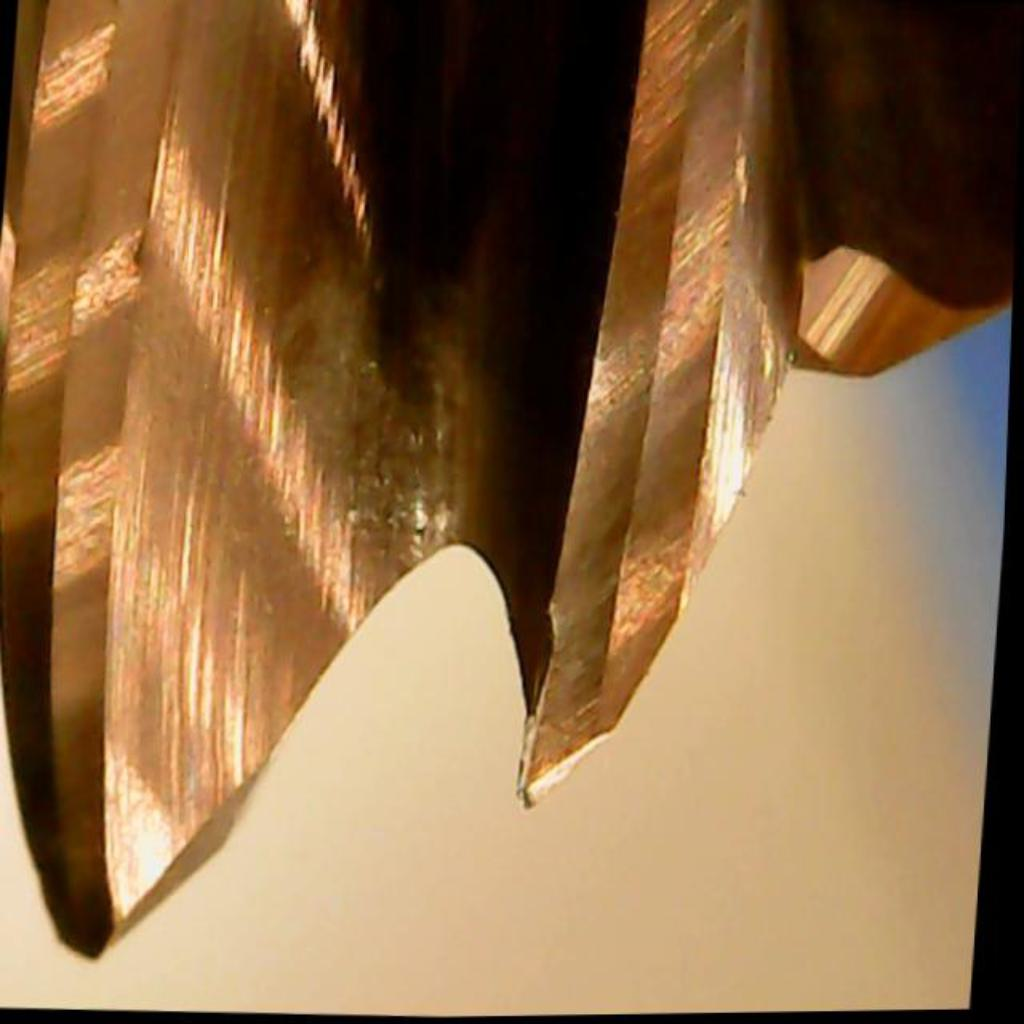Tool-wear-class-1: (486, 344, 713, 823)
